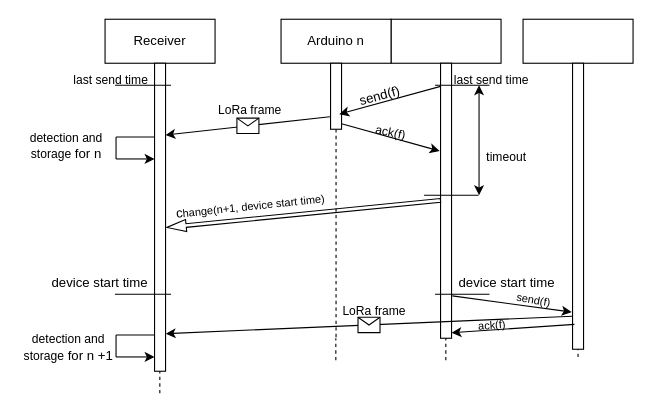
Some shapes in this 652 by 414 pixel diagram are drawn without their labels. Here are the shapes that lost their labels. From the top down, the box of each, then its label:
(390, 18, 501, 63): Transmitter
(522, 18, 633, 360): Arduino n+1
